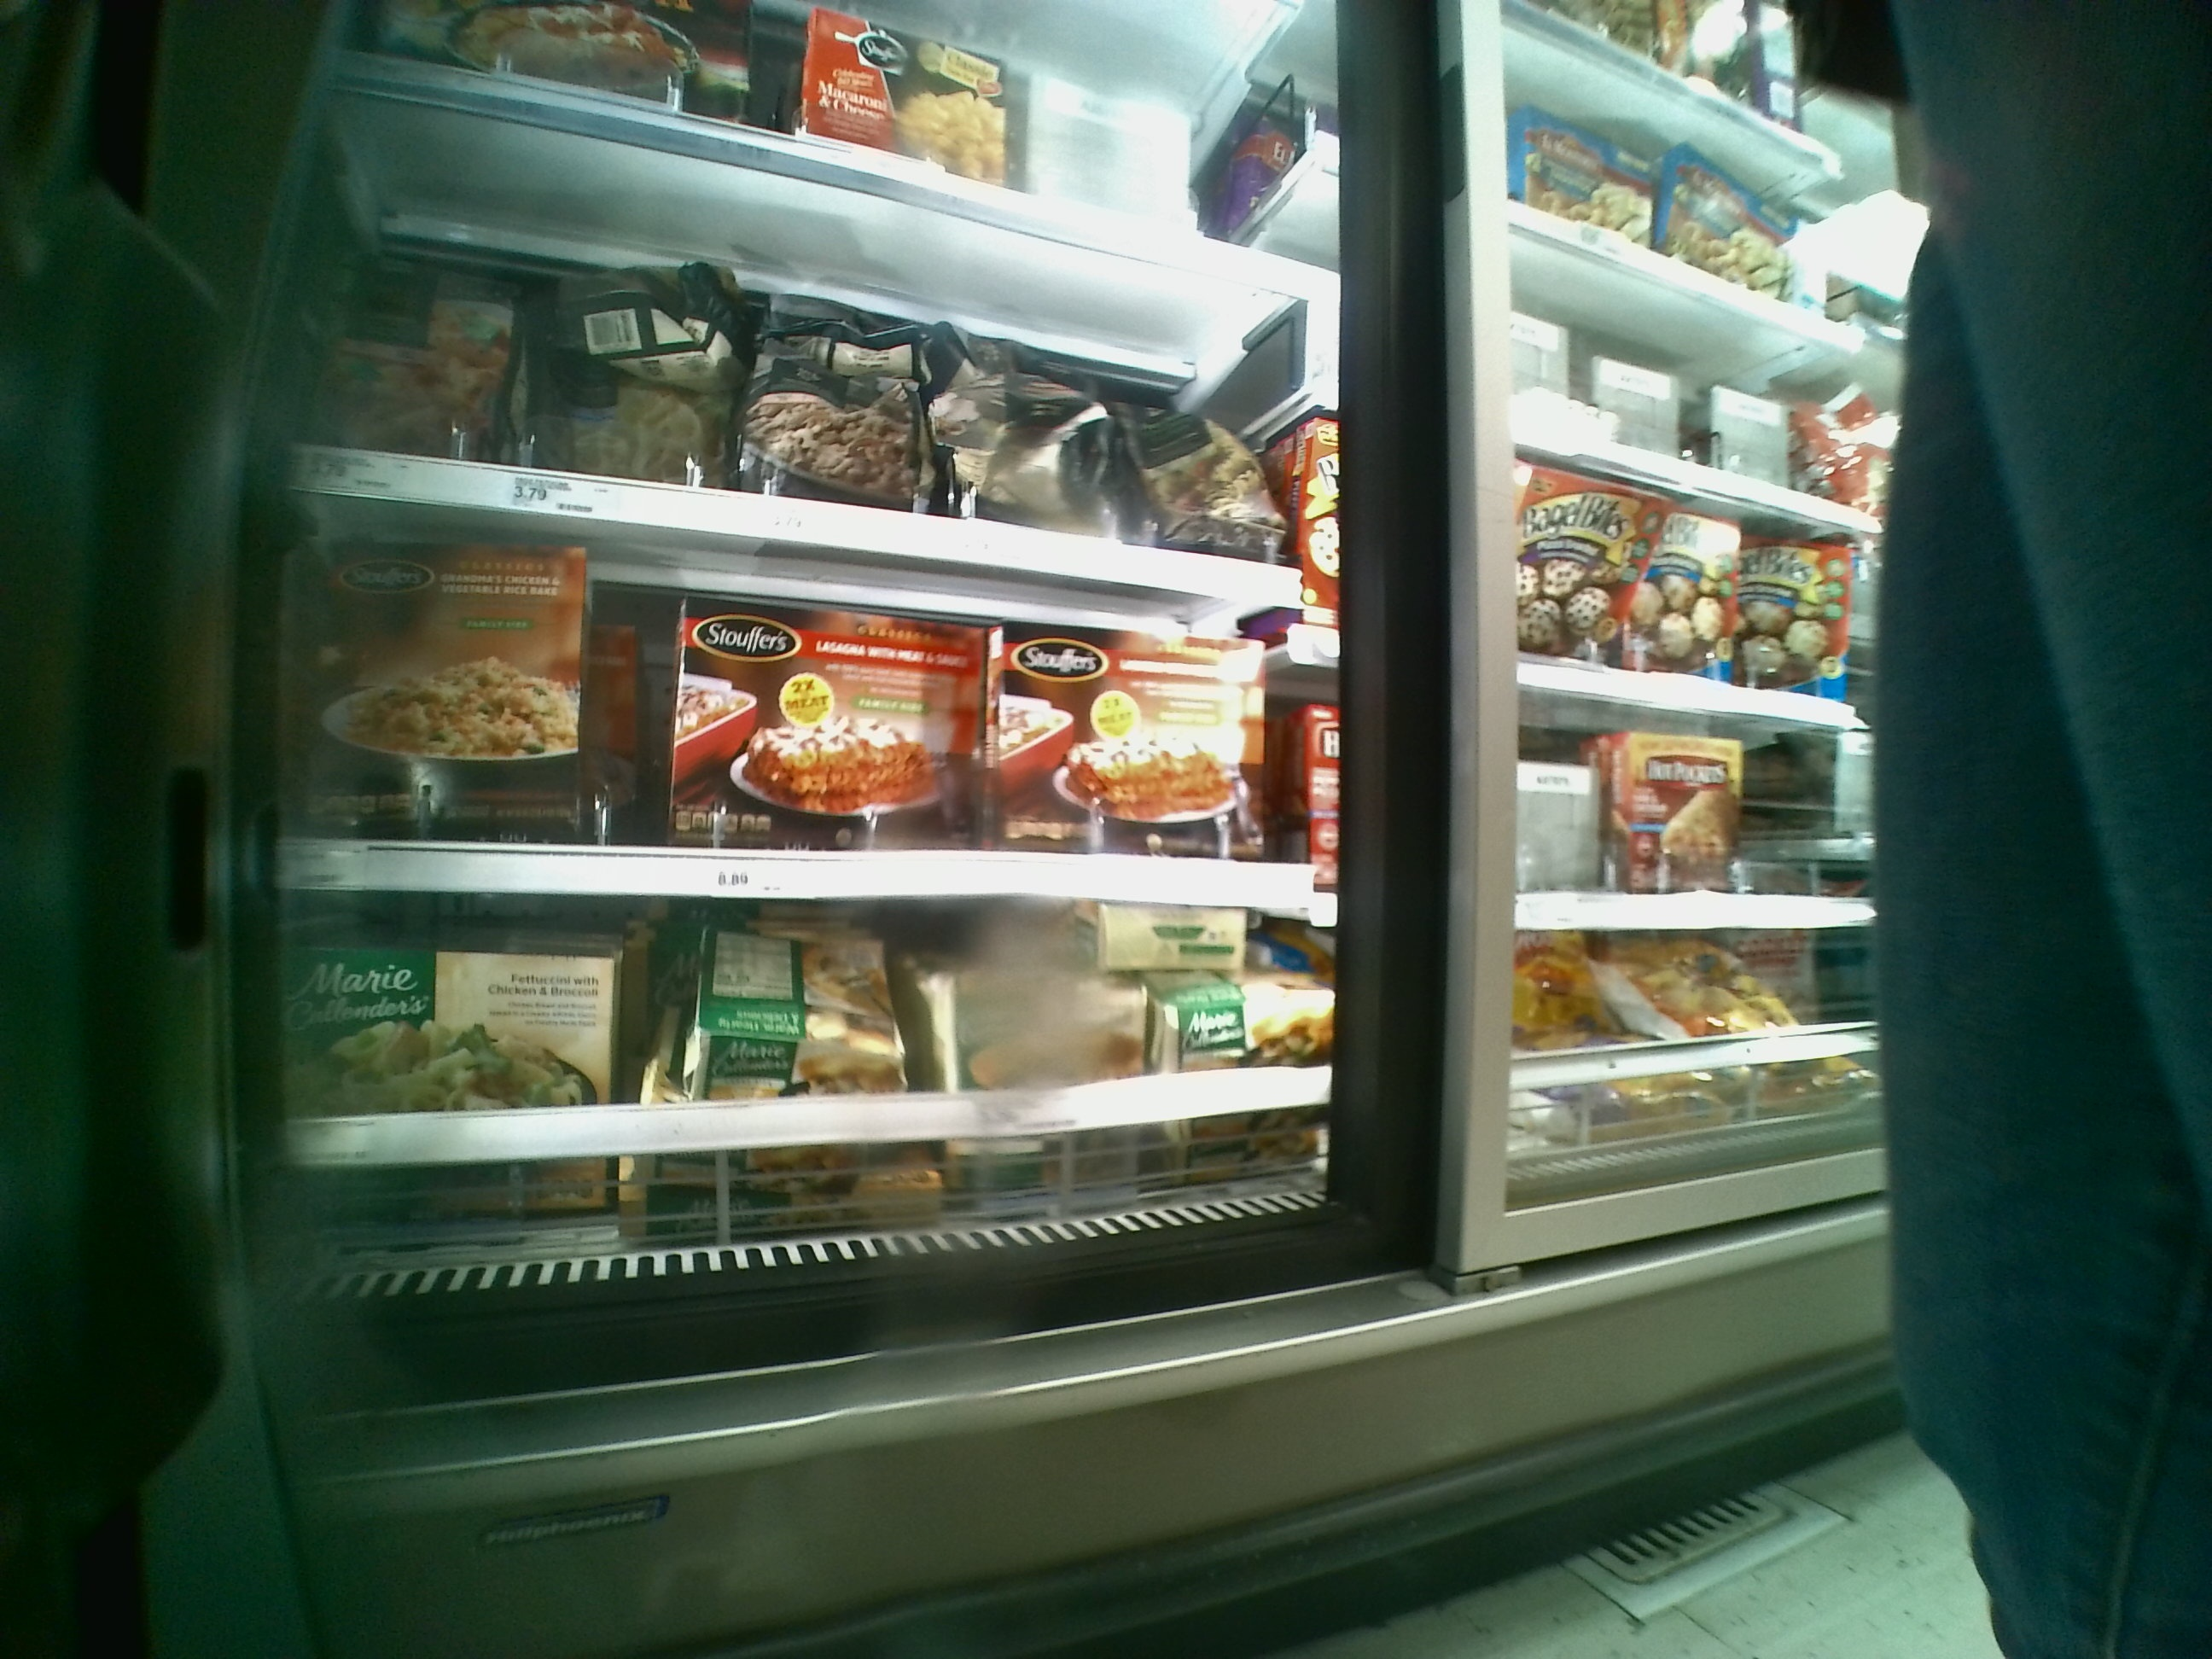shelf: (291, 892, 1325, 1249), (293, 561, 1324, 896), (294, 227, 1320, 556)
